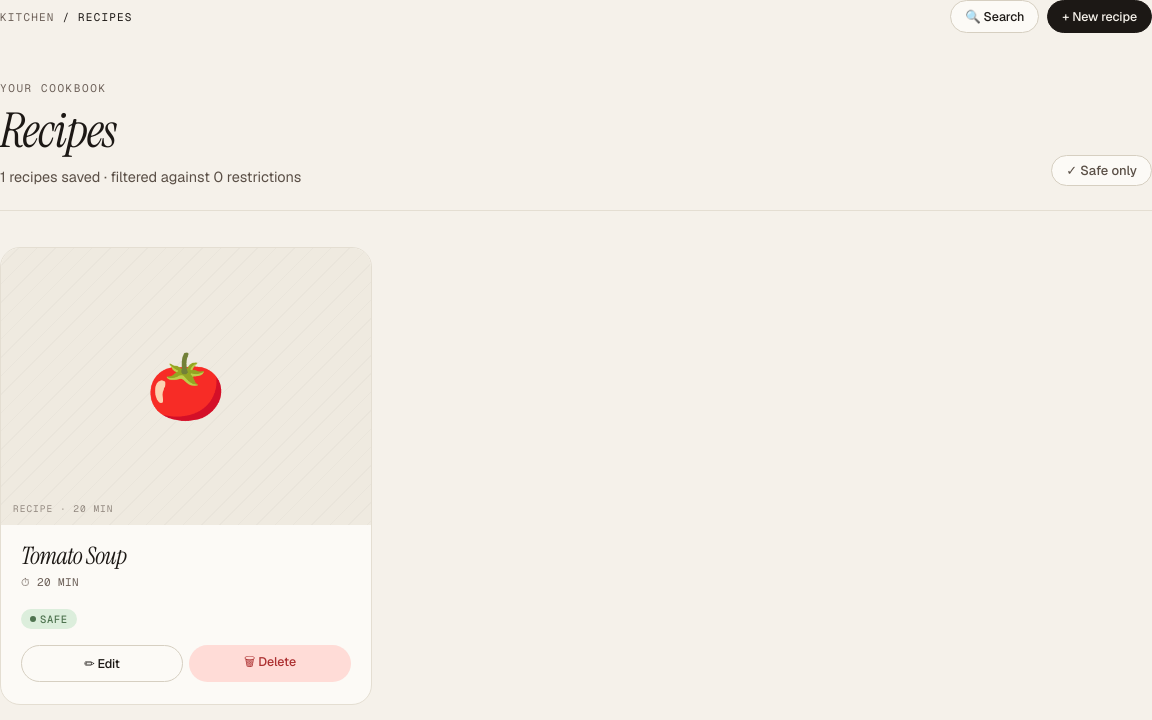
Scenario: RecipesScreen – delete card confirmation modal › shows a confirmation modal when Delete is clicked
Click the button "🗑 Delete": x=270, y=663 x1=189 y1=645 x2=351 y2=682
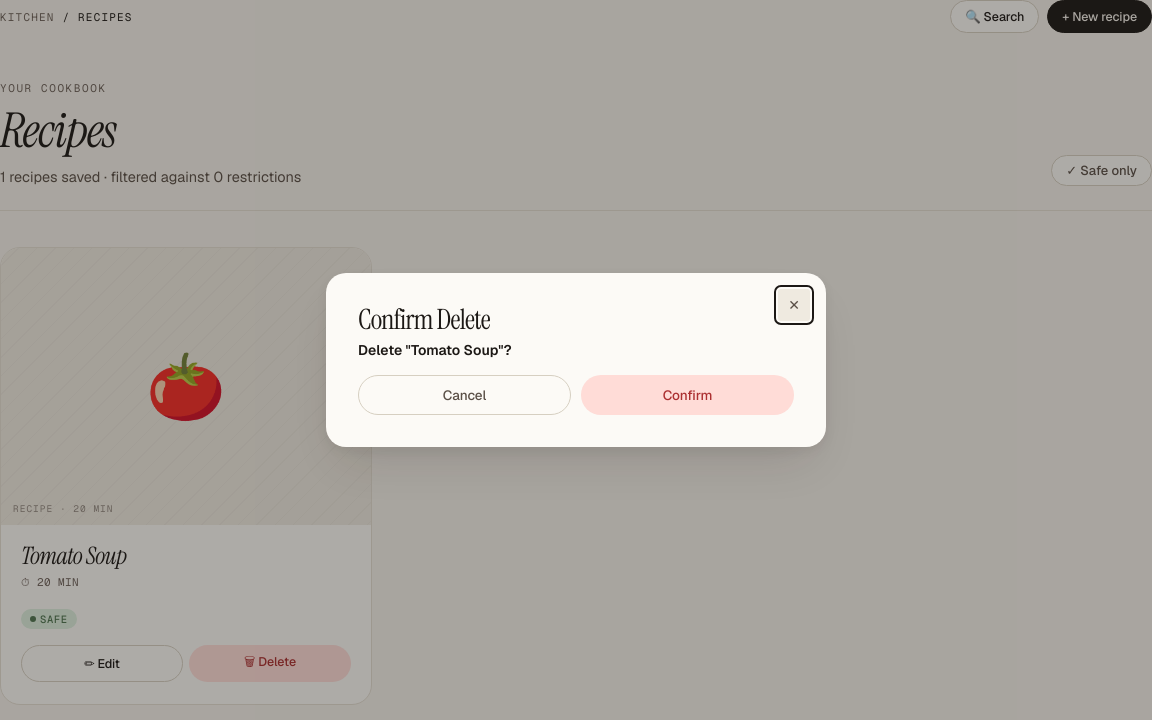
Now the text "Confirm Delete" is shown, box x1=358 y1=301 x2=490 y2=338
Now the button "Confirm" is shown, box x1=581 y1=375 x2=794 y2=415
Now the button "Cancel" is shown, box x1=358 y1=375 x2=571 y2=415
